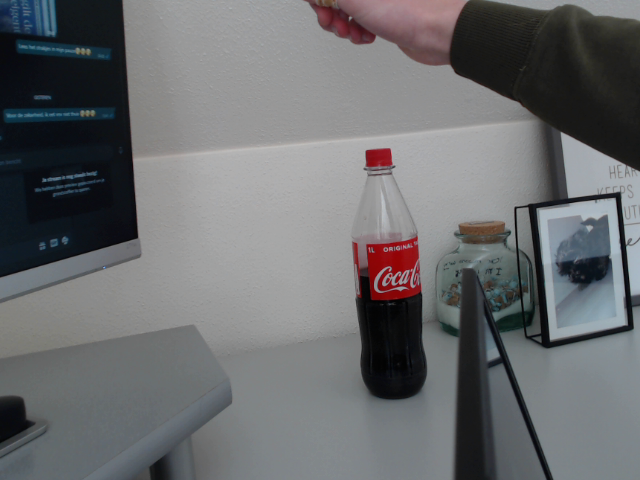bottle: (352, 148, 427, 401)
